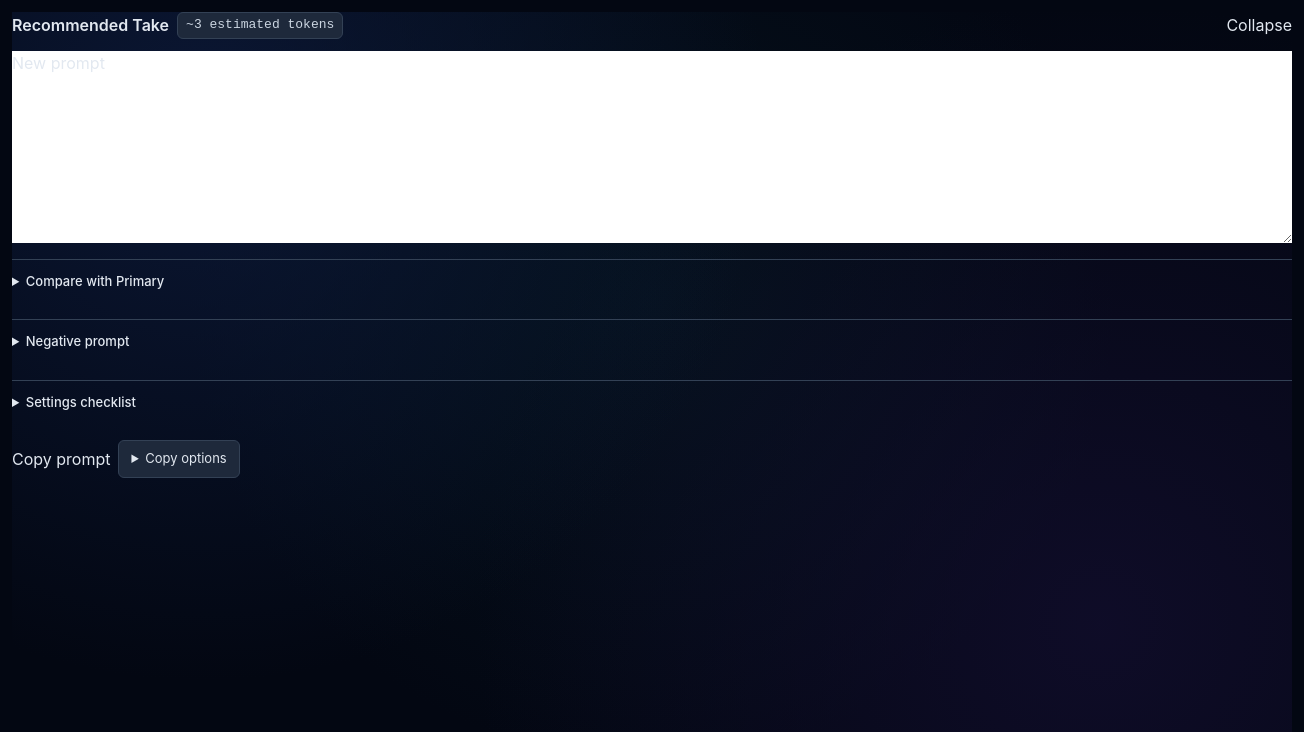
Scenario: VideoVariantCard › compares changed prompt, negative prompt and settings against the primary
Step 1. Click the heading "Compare with Primary" → (95, 281), box x1=26 y1=273 x2=164 y2=289
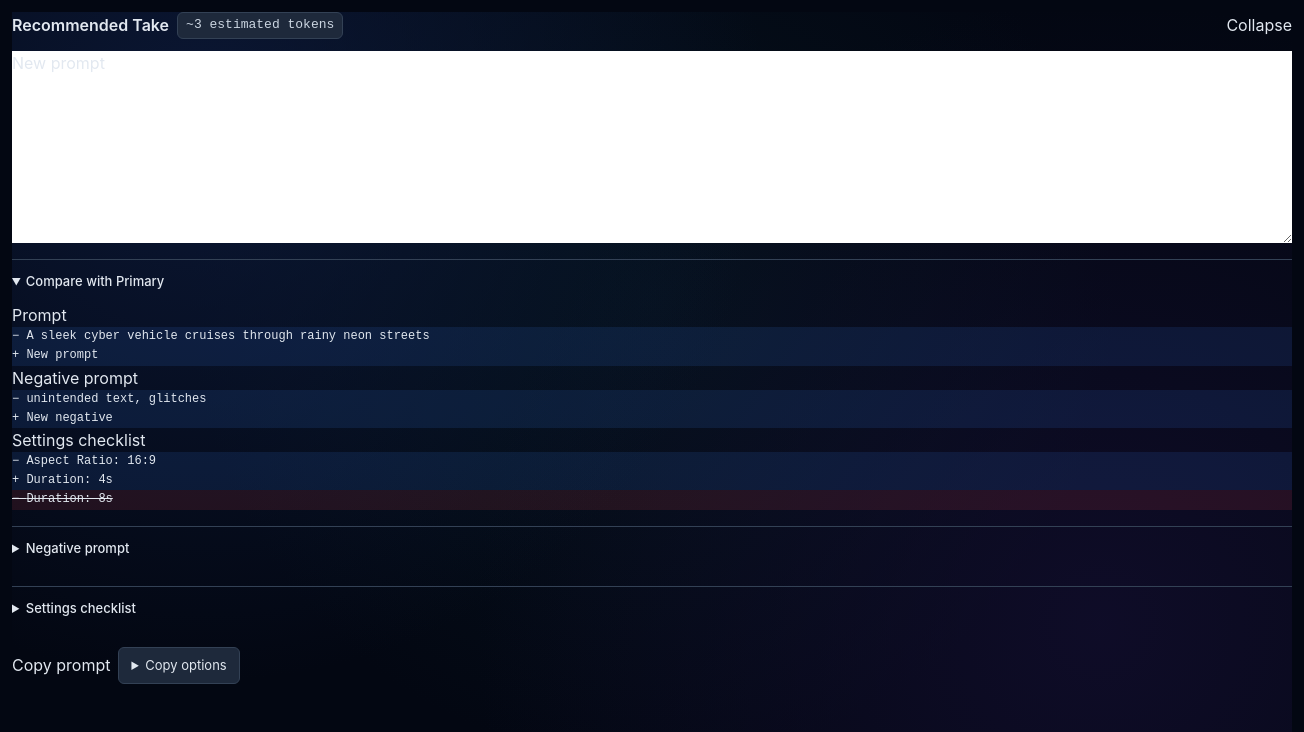
Result: the text "+ New prompt" is shown at x1=12 y1=327 x2=1292 y2=366
Result: the text "+ New negative" is shown at x1=12 y1=390 x2=1292 y2=428
Result: the text "+ Duration: 4s" is shown at x1=12 y1=452 x2=1292 y2=490
